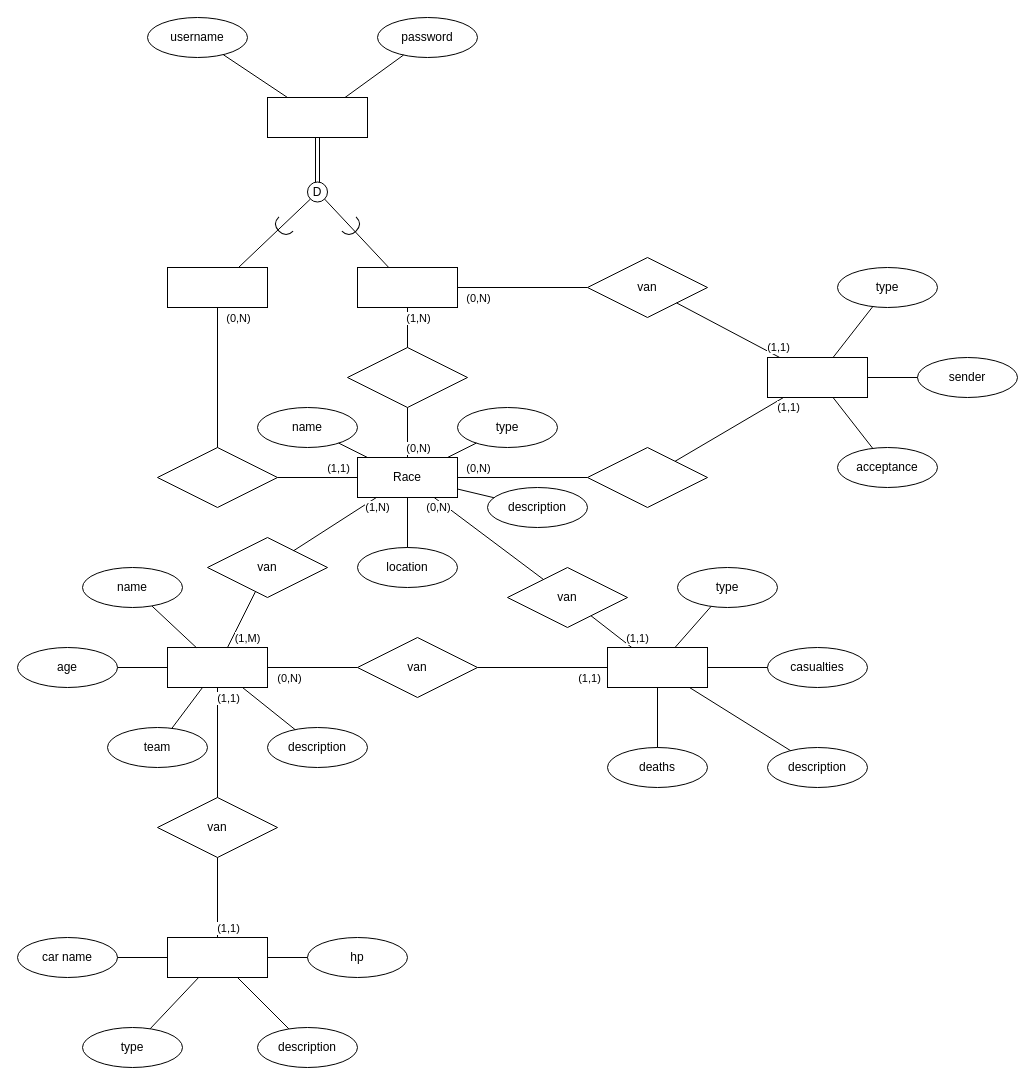
The diagram is 1035 pixels wide and 1085 high, and some of its shapes have lost their labels. Here are the shapes that lost their labels. From the top down, the centre of each, then its label:
the point at 317,117: Website gebruiker
the point at 217,287: Admin
the point at 407,287: User
the point at 407,377: zoekt
the point at 817,377: Submission Form
the point at 217,477: voegt toe
the point at 647,477: over
the point at 217,667: Driver
the point at 657,667: Crash
the point at 217,957: Racecar
